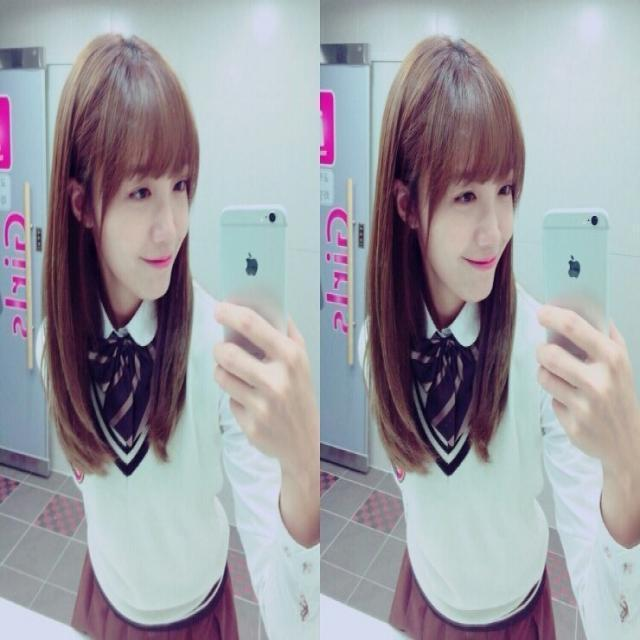phone: (542, 207, 616, 370), (218, 208, 290, 368)
